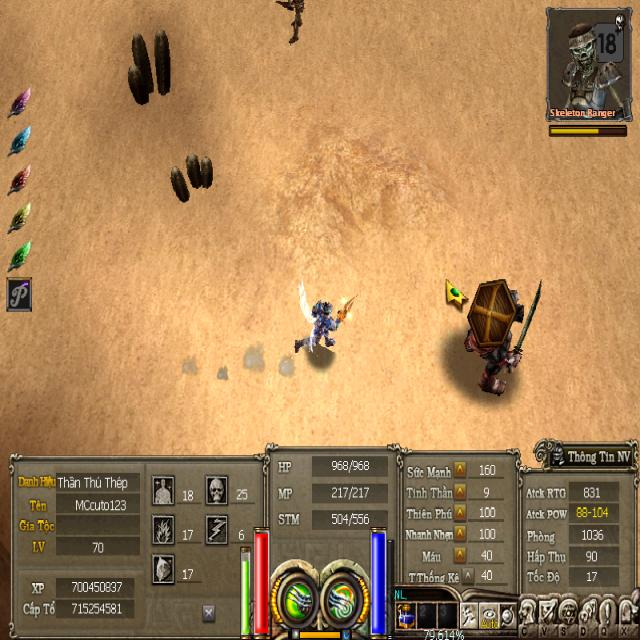monster: (443, 258, 540, 412)
